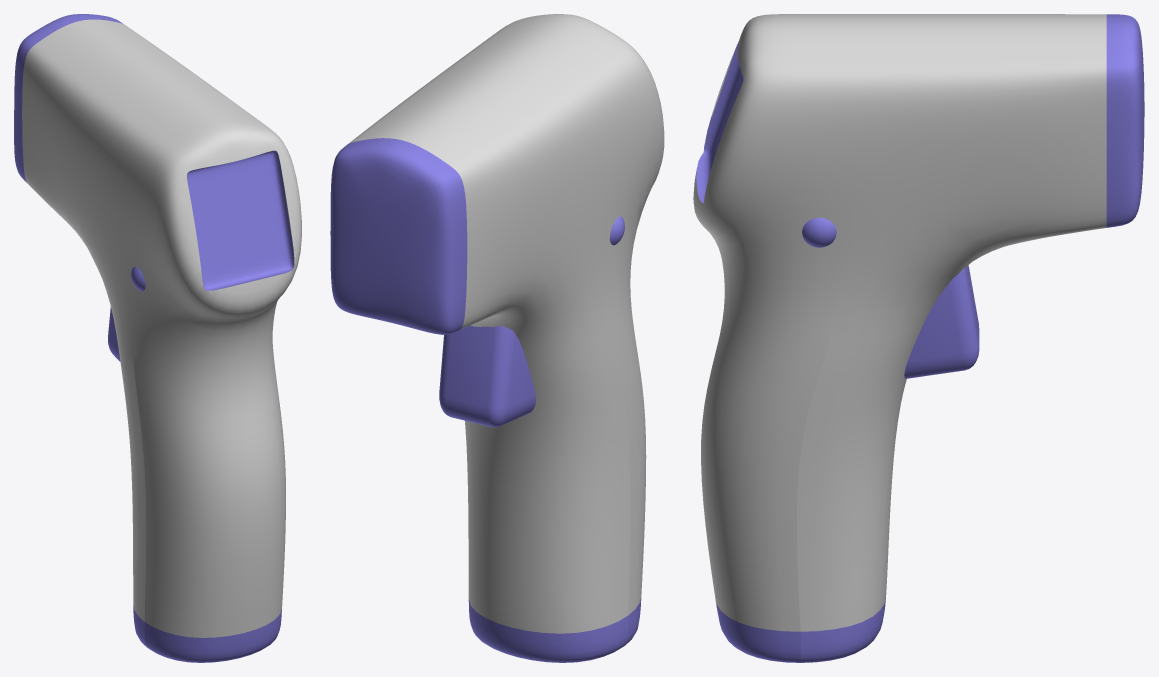
Rendered from Taionkei.fbx.
3 renders of one model, left to right at view 1: azimuth 30°, elevation 25°; view 2: azimuth 150°, elevation 25°; view 3: azimuth 270°, elevation 25°, orthographic. The views are drawn at different scales.
Visible parts, largest first — view 1: 立方体; view 2: 立方体, 立方体.001; view 3: 立方体, 立方体.001, 球.002.
Boxes of the visible parts, x1,y1,x2,y2 form: 立方体: (14,14,301,662); 立方体: (330,14,664,662); 立方体.001: (439,325,535,427); 立方体: (693,14,1144,662); 立方体.001: (904,265,979,378); 球.002: (802,217,836,247).
Size of the model in its own units: 1.45 by 5.39 by 3.61.
